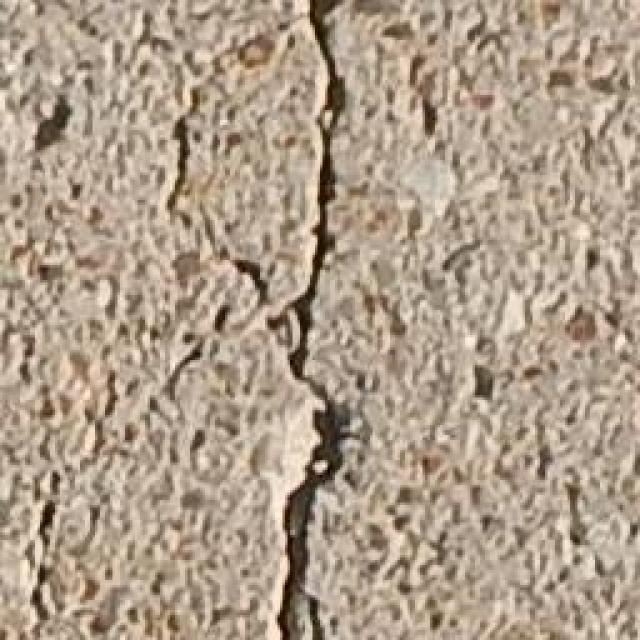concrete-crack: (261, 0, 359, 640), (156, 101, 283, 304)
